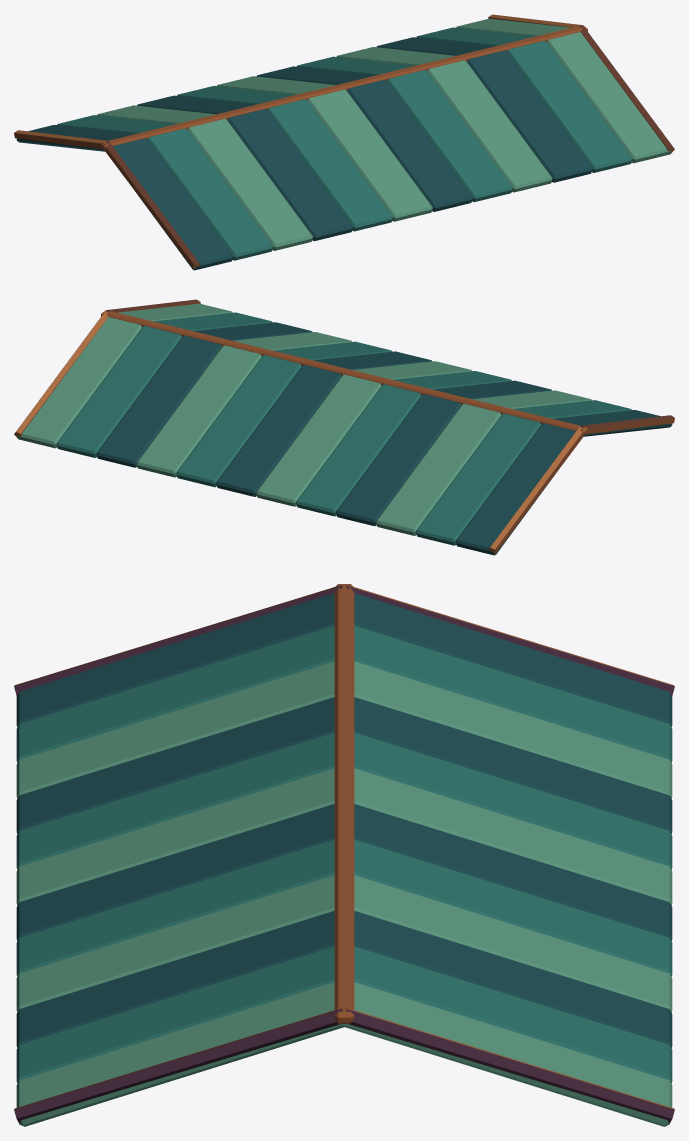
Rendered from grove_barn_roof.glb.
The picture shows the model from 3 angles, top to bottom: view 1: azimuth 30°, elevation 25°; view 2: azimuth 150°, elevation 25°; view 3: azimuth 270°, elevation 25°; orthographic projection. The views are drawn at different scales.
Visible parts, largest first — view 1: grove_barn_roof; view 2: grove_barn_roof; view 3: grove_barn_roof.
Part boxes in pixels (x1,y1,x2,y2): grove_barn_roof: [14, 14, 674, 270]; grove_barn_roof: [14, 299, 674, 555]; grove_barn_roof: [14, 584, 674, 1126].
Size of the model in its own units: 19.75 by 2.53 by 12.78.
